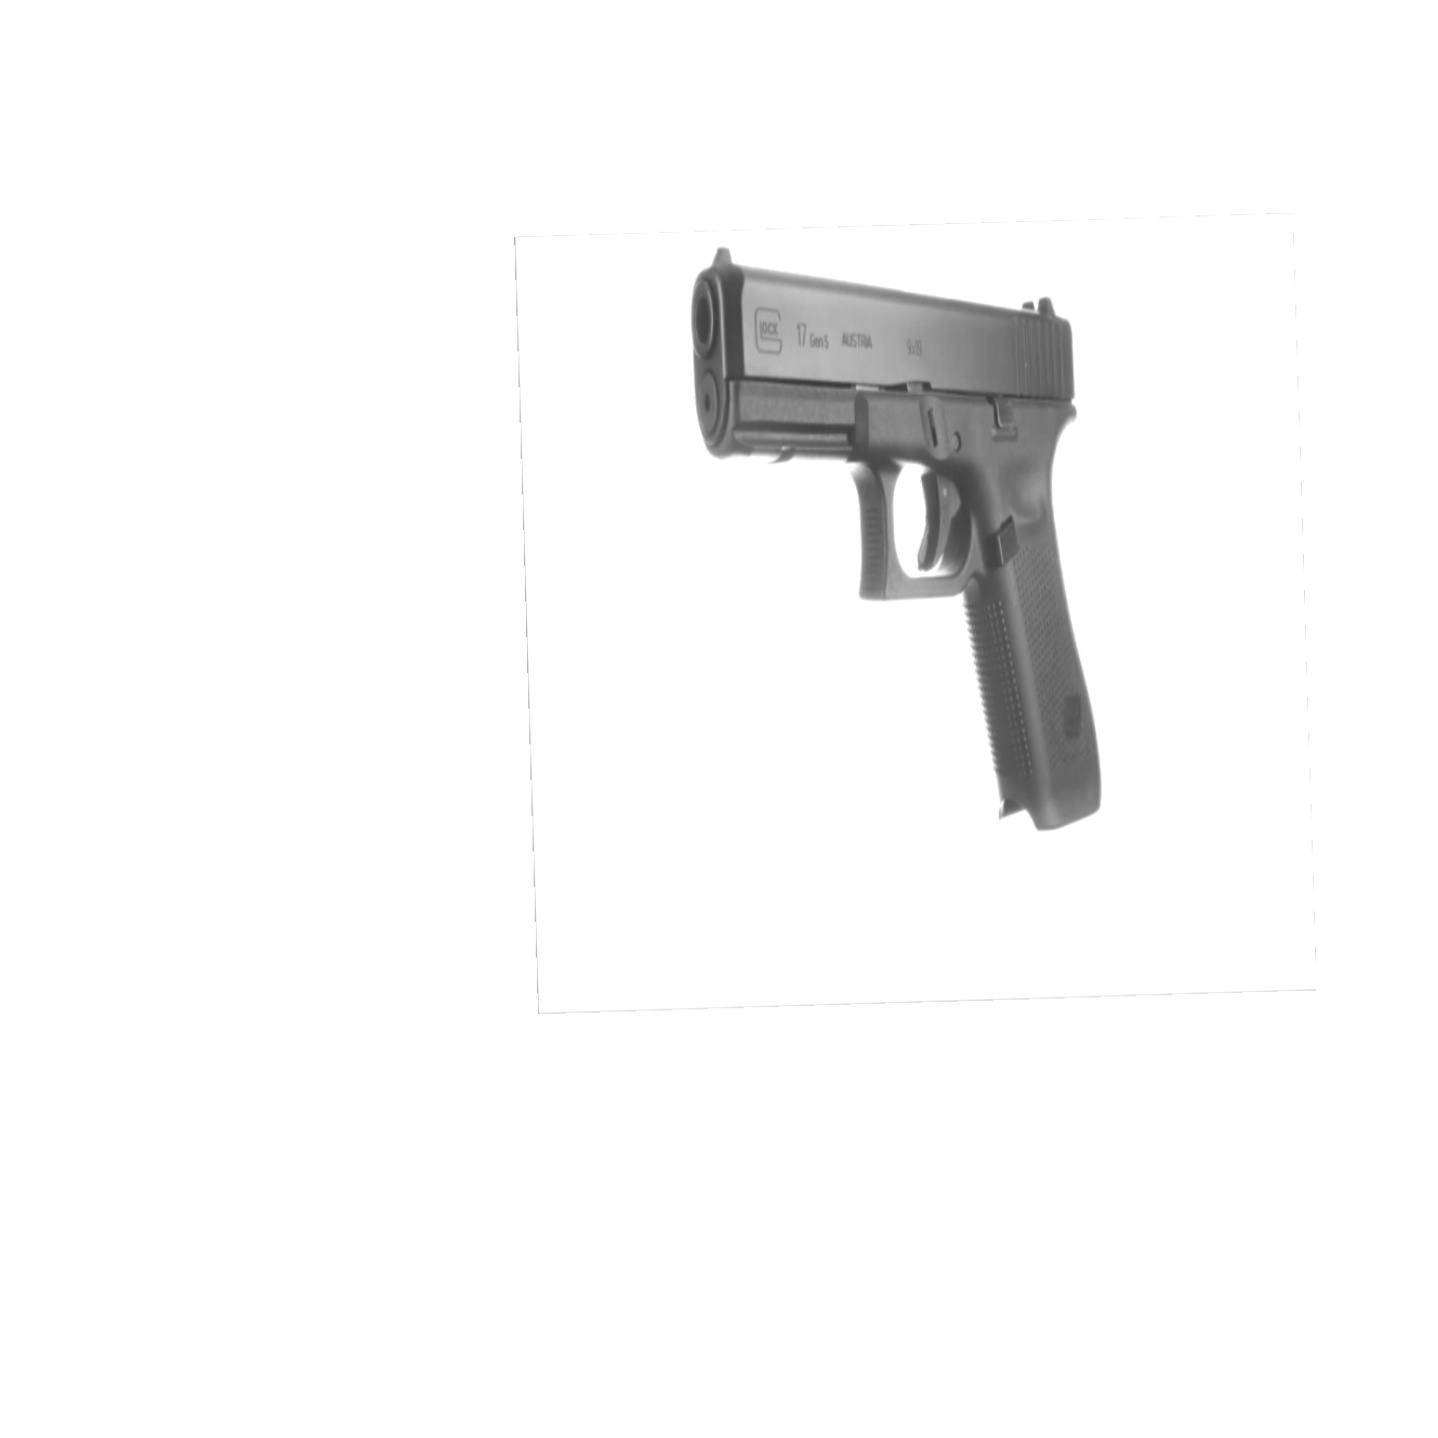gun: (686, 245, 1107, 832)
